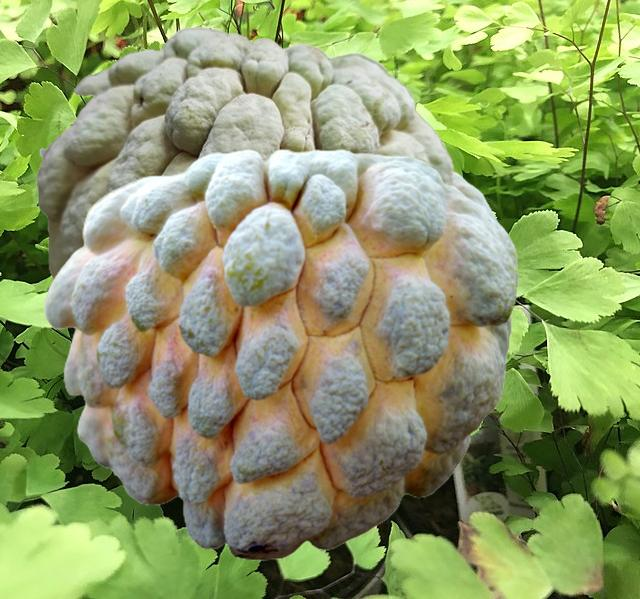atis: (44, 148, 515, 559), (35, 26, 453, 278)
